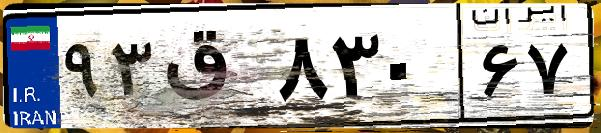0: (385, 28, 445, 110)
3: (330, 28, 385, 110), (110, 28, 158, 98)
6: (475, 38, 525, 113)
7: (525, 38, 570, 115)
8: (270, 28, 330, 110)
9: (57, 26, 110, 100)
ق: (158, 20, 270, 120)
